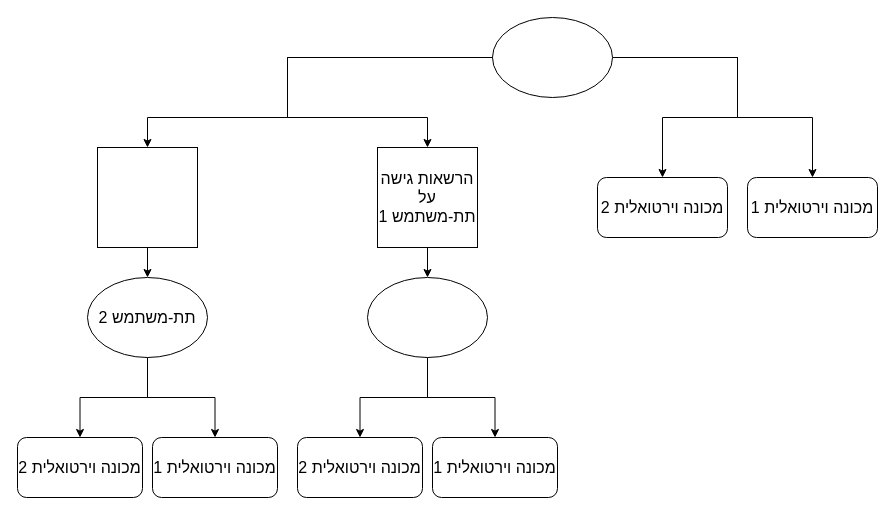
Some shapes in this 895 by 515 pixel diagram are drawn without their labels. The shapes that lost their labels are listed below. From the top down, each one's centre as x and y in pixels, then its label:
At [552,57]: "משתמש בעל".
At [147,197]: "הרשאות גישה על תת-משתמש 2".
At [427,317]: "תת-משתמש 1".
